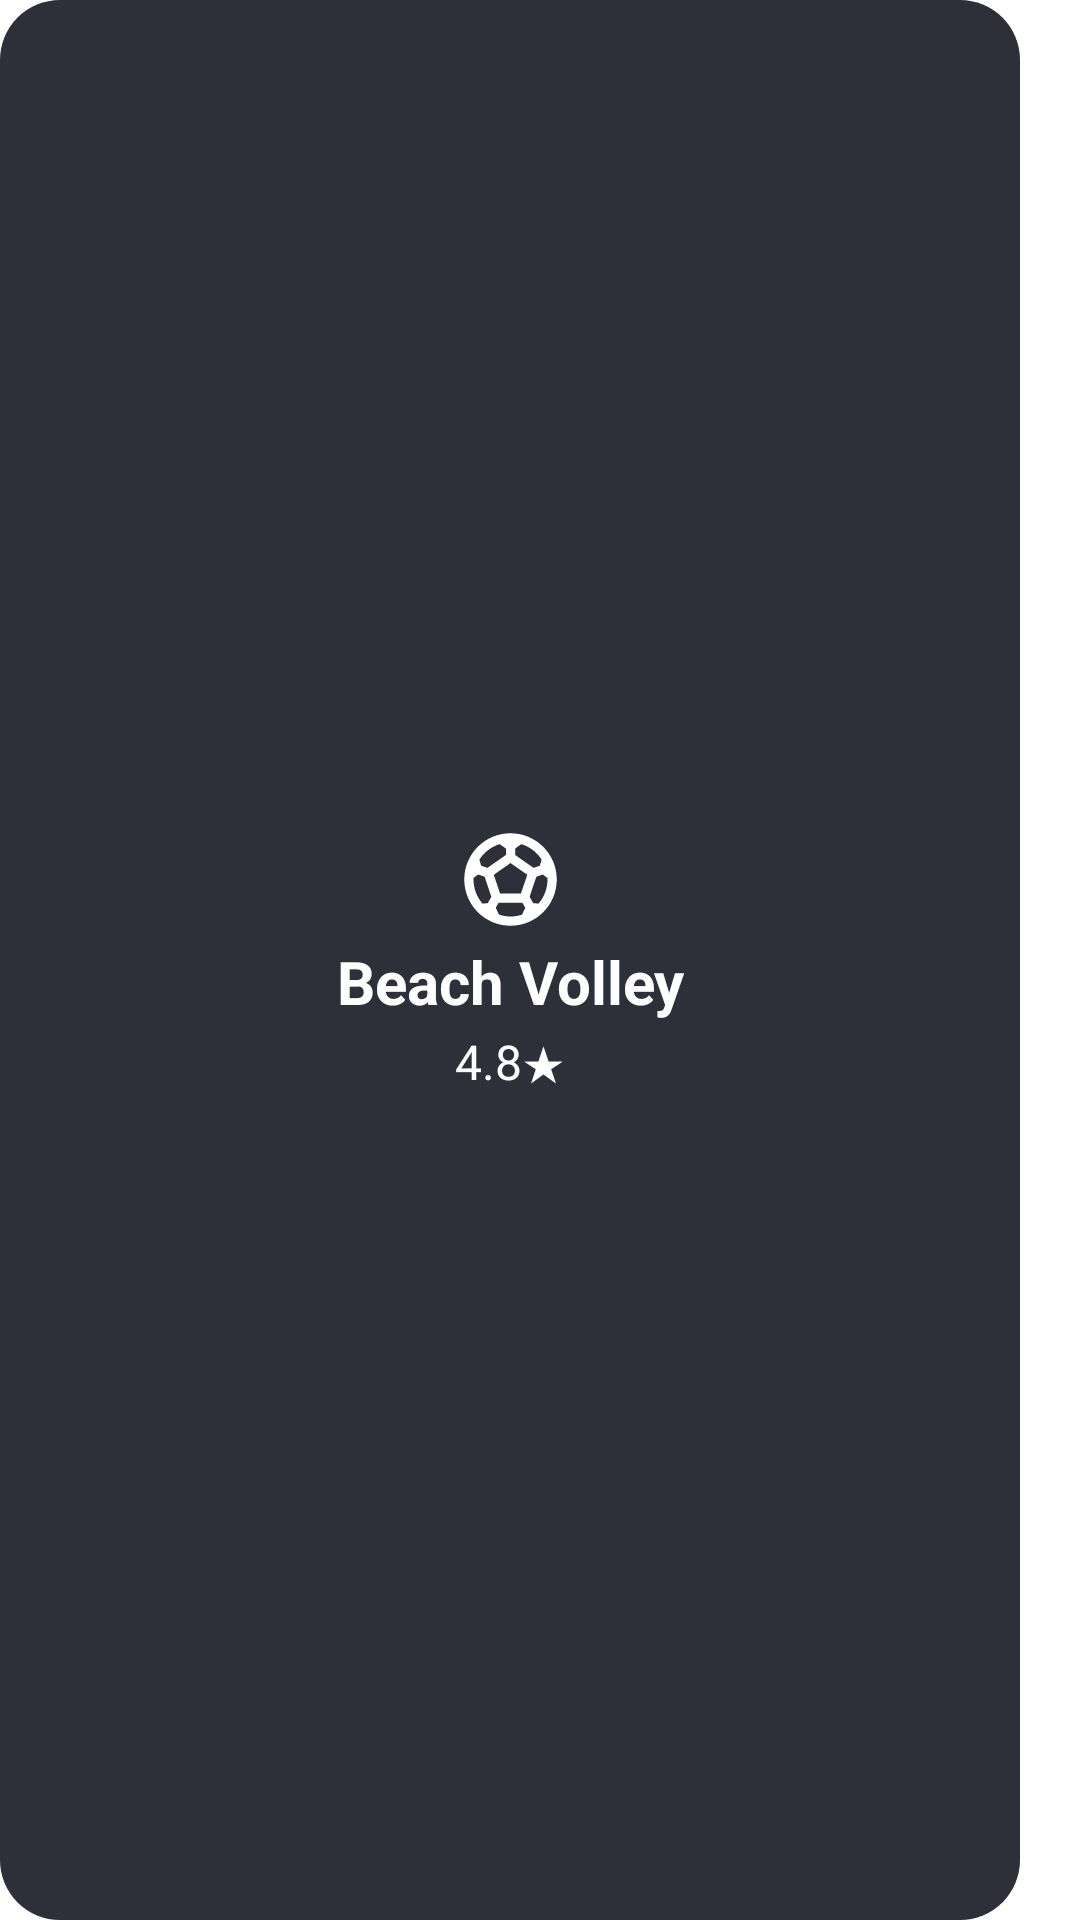

Icon bounding boxes for this 1080px x 1920px phone screenshot, format (x1, y1, x2, y2):
sports soccer: (464, 833, 557, 926)
